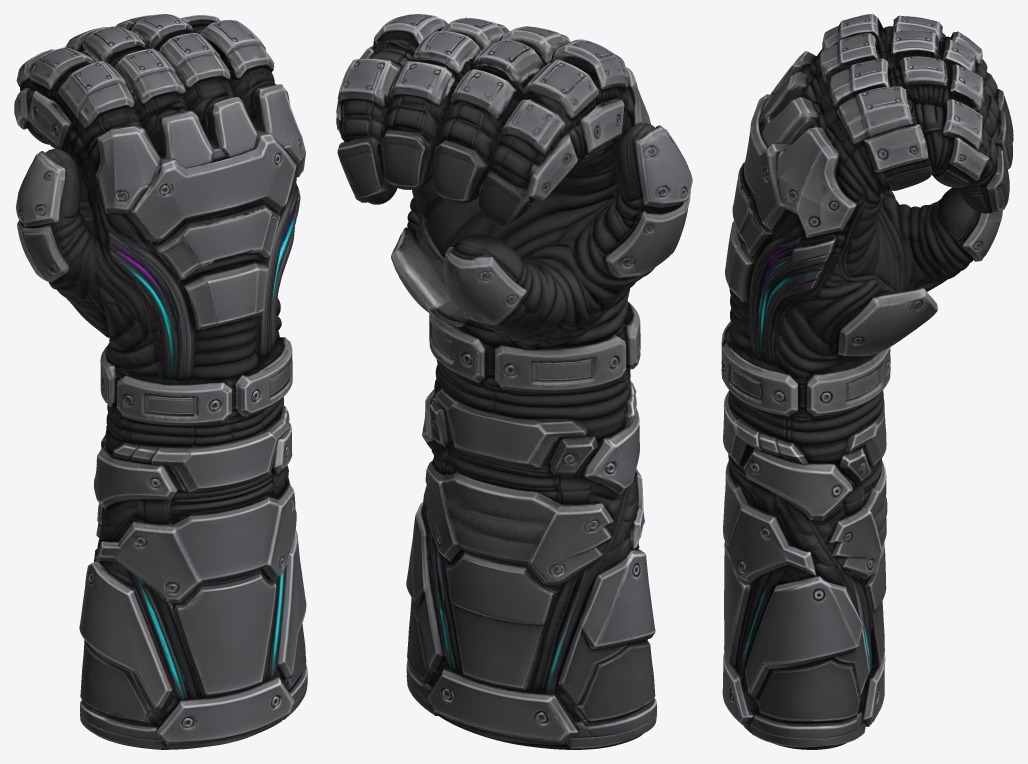
The model's file is glove.glb.
The picture shows the model from 3 angles, left to right: view 1: azimuth 30°, elevation 25°; view 2: azimuth 150°, elevation 25°; view 3: azimuth 270°, elevation 25°; orthographic projection. The views are drawn at different scales.
Visible parts, largest first — view 1: tripo_node_821a89ce-632d-4b5e-9195-cf829b77247b; view 2: tripo_node_821a89ce-632d-4b5e-9195-cf829b77247b; view 3: tripo_node_821a89ce-632d-4b5e-9195-cf829b77247b.
Boxes of the visible parts, x1=… form: tripo_node_821a89ce-632d-4b5e-9195-cf829b77247b: x1=14, y1=14, x2=307, y2=749; tripo_node_821a89ce-632d-4b5e-9195-cf829b77247b: x1=336, y1=14, x2=692, y2=749; tripo_node_821a89ce-632d-4b5e-9195-cf829b77247b: x1=721, y1=14, x2=1013, y2=749.
Bounding box in the file's own units: 0.4161 × 0.9799 × 0.3922.
Materials: 1 (1 with a texture image).
